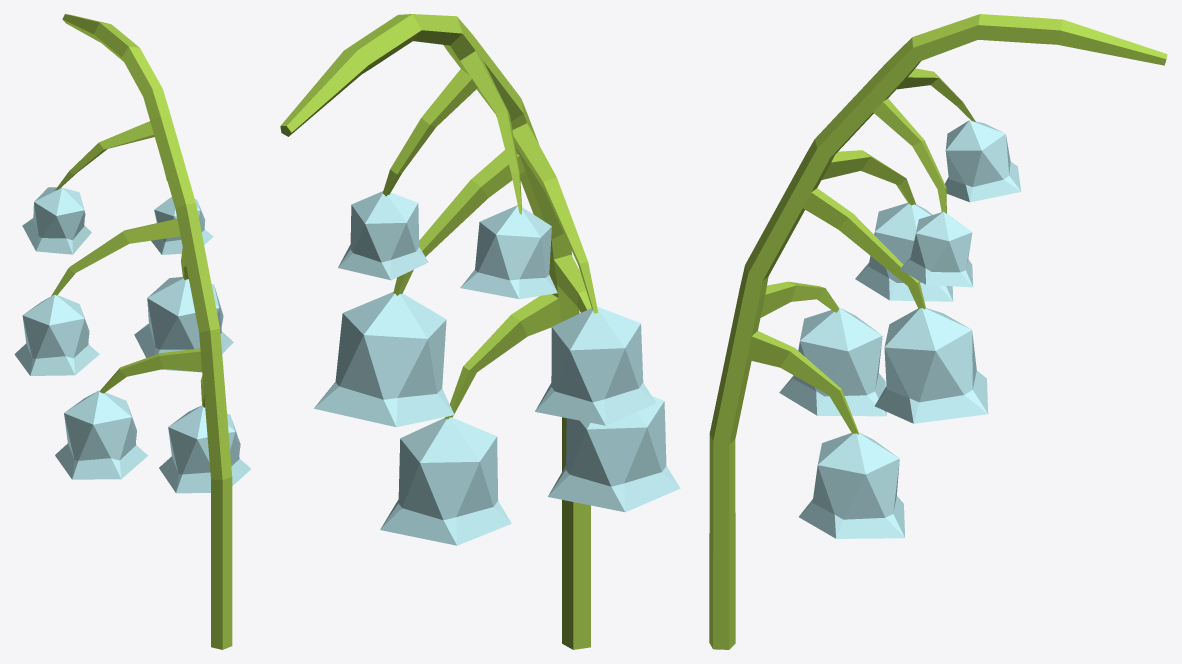
The model's file is ENV_lilyvalley_color.fbx.
The picture shows the model from 3 angles, left to right: view 1: azimuth 30°, elevation 25°; view 2: azimuth 150°, elevation 25°; view 3: azimuth 270°, elevation 25°; orthographic projection. The views are drawn at different scales.
Parts seen in each view (by area): view 1: Cylinder.008; view 2: Cylinder.008; view 3: Cylinder.008.
Part boxes in pixels (x1,y1,x2,y2): Cylinder.008: (14, 14, 250, 649); Cylinder.008: (280, 14, 680, 649); Cylinder.008: (709, 14, 1167, 649).
Size of the model in its own units: 148 by 97.71 by 227.
